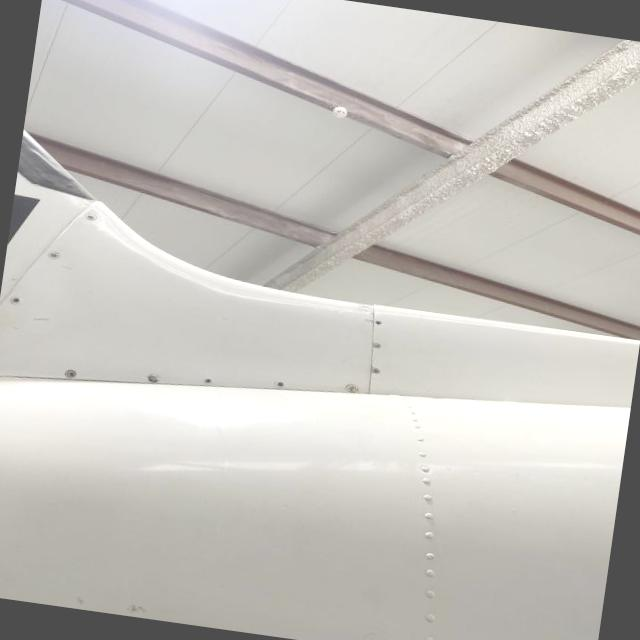Missing Fastener: (140, 367, 166, 387), (62, 368, 76, 379), (7, 294, 20, 304), (273, 380, 284, 388), (202, 376, 212, 384), (374, 320, 381, 324)
